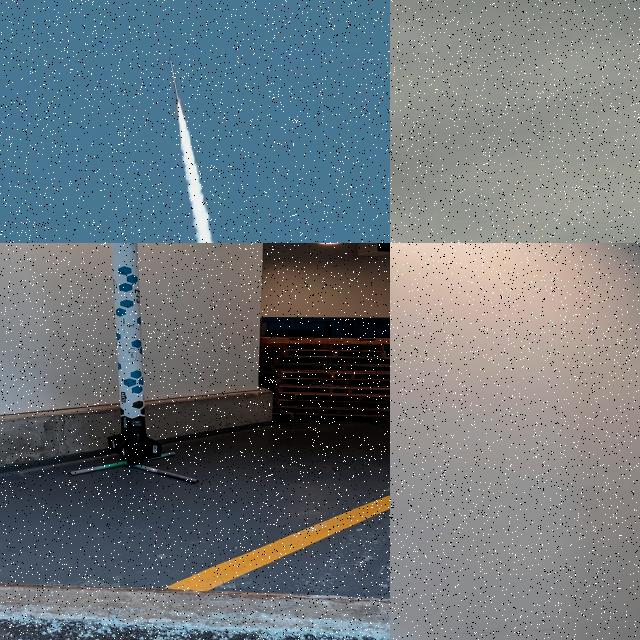Rocket: (107, 243, 162, 465), (169, 56, 182, 105)
